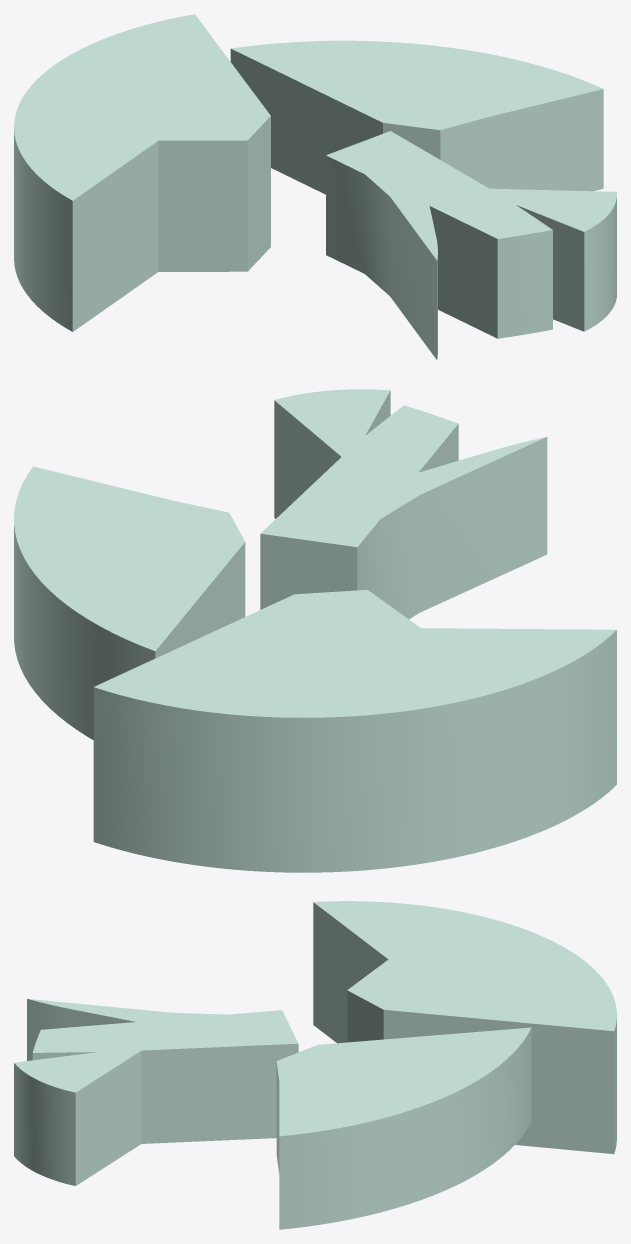
The picture shows the model from 3 angles, top to bottom: view 1: azimuth 30°, elevation 25°; view 2: azimuth 150°, elevation 25°; view 3: azimuth 270°, elevation 25°; orthographic projection. The views are drawn at different scales.
Parts seen in each view (by area): view 1: Renderer Node; view 2: Renderer Node; view 3: Renderer Node.
Boxes of the visible parts, x1,y1,x2,y2 form: Renderer Node: (14,14,616,360); Renderer Node: (14,389,616,872); Renderer Node: (14,901,616,1229).
Size of the model in its own units: 1.6 by 0.3906 by 1.74.
